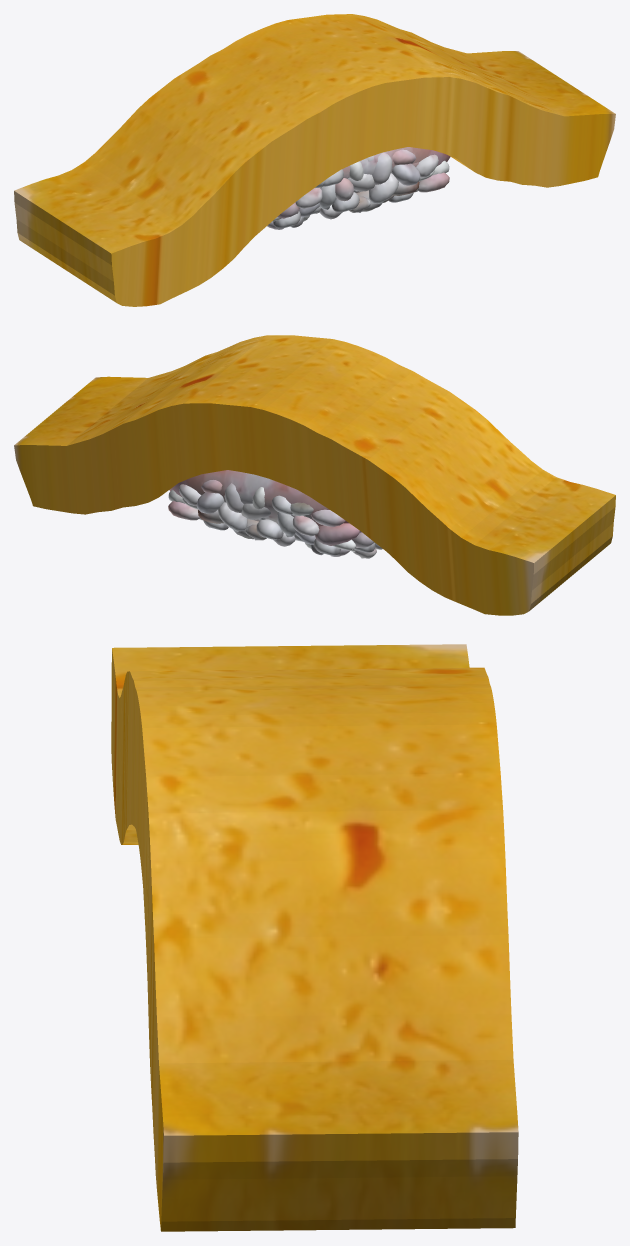
File: sushi-tamago.obj
3 views of the same model, one above another, from view 1: azimuth 30°, elevation 25°; view 2: azimuth 150°, elevation 25°; view 3: azimuth 270°, elevation 25° (orthographic). The views are drawn at different scales.
Parts seen in each view (by area): view 1: model_190251834805.002; view 2: model_190251834805.002; view 3: model_190251834805.002.
Part boxes in pixels (left/top/right/bottom): model_190251834805.002: left=14, top=14, right=615, bottom=306; model_190251834805.002: left=14, top=335, right=615, bottom=615; model_190251834805.002: left=111, top=644, right=518, bottom=1231.
Size of the model in its own units: 1.27 by 0.3748 by 0.4367.
